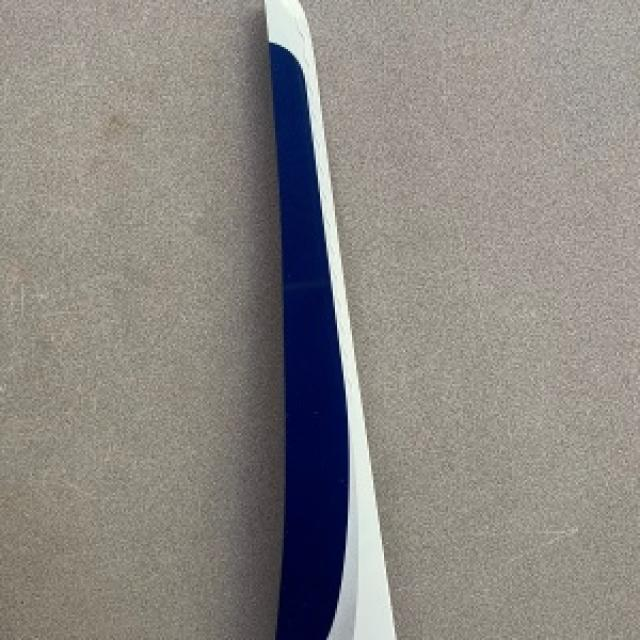healthy: (0, 0, 279, 638), (262, 0, 395, 638)
